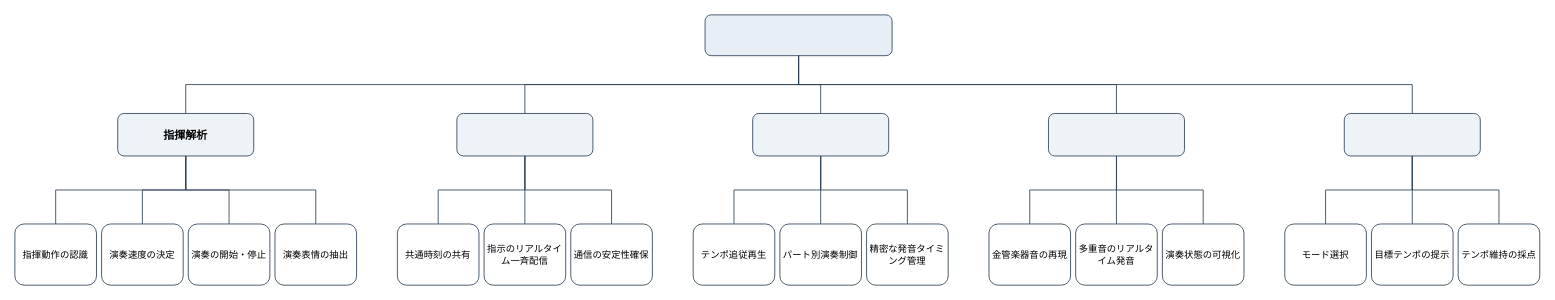
Some shapes in this 1555 by 300 pixel diagram are drawn without their labels. Here are the shapes that lost their labels. From the top down, the centre of each, then its label:
the point at 798,35: Arduinoオーケストラ
the point at 524,134: 同期通信
the point at 820,134: 楽譜進行
the point at 1116,134: 音響合成
the point at 1411,134: ゲーム進行
